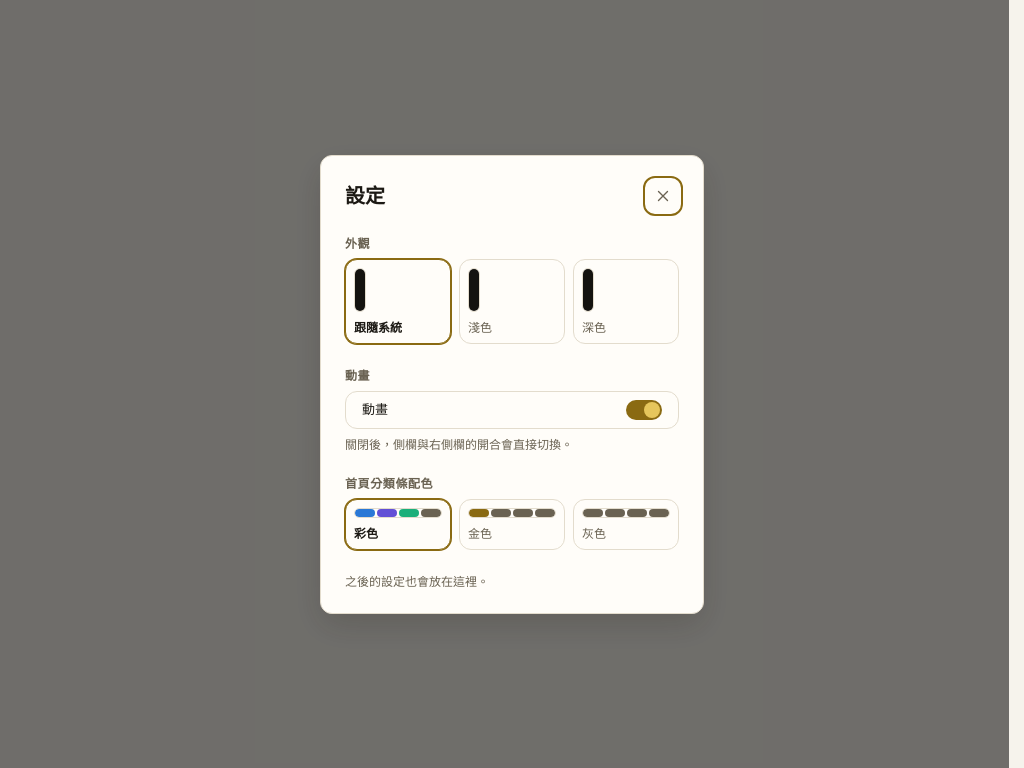
Test case: SettingsDialog › wraps around from the last card back to the first
The width and height of the screenshot is (1024, 768).
Step 1. Click the radio button labelled "深色" → coordinates (626, 301), box [573,258,679,344]
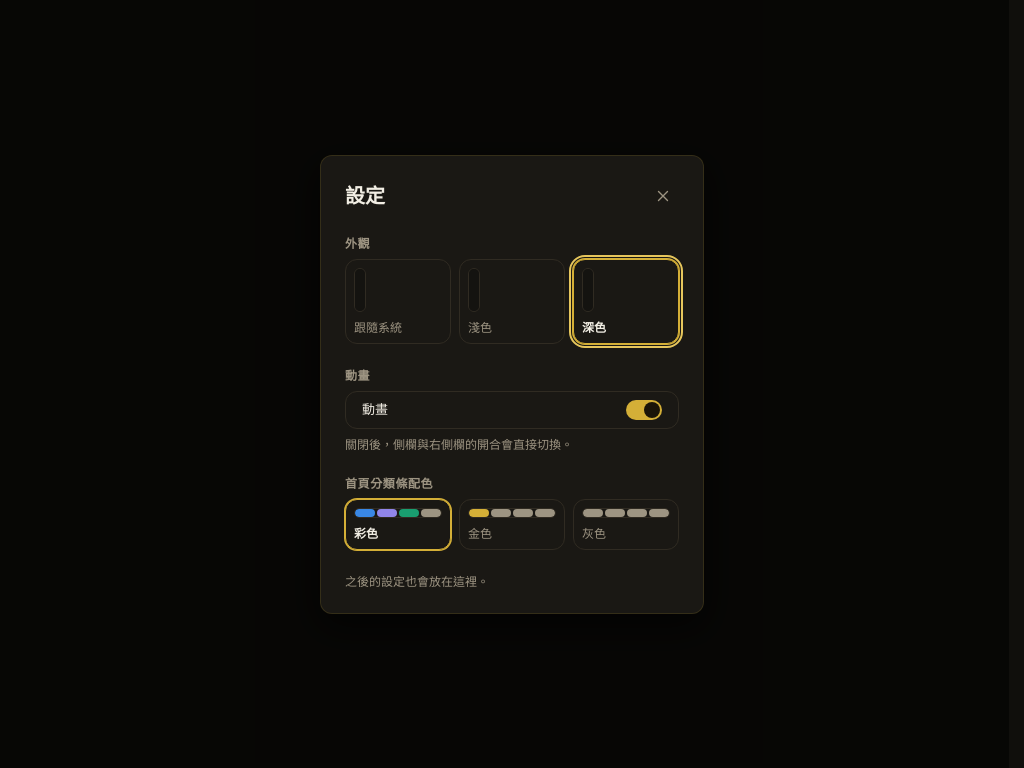
Step 2. Press Arrowright
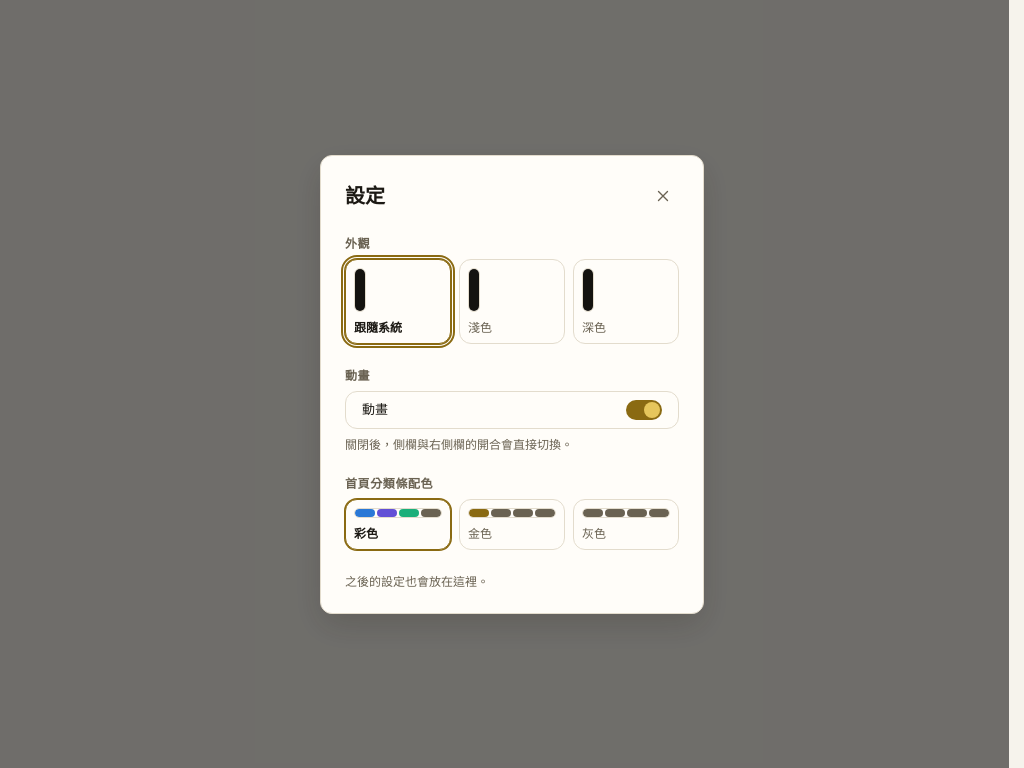
Result: the radio button labelled "跟隨系統" is checked at [345,258,451,344]
